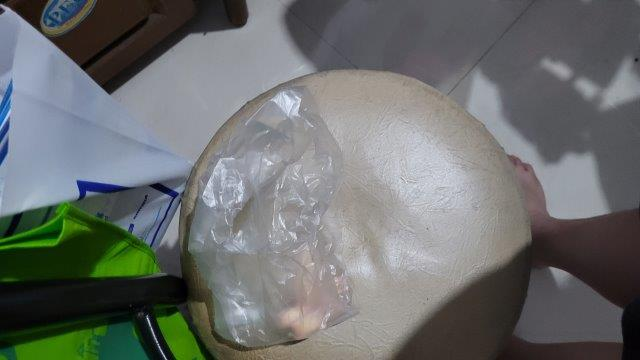plastik: (1, 7, 191, 265), (197, 89, 354, 347)
